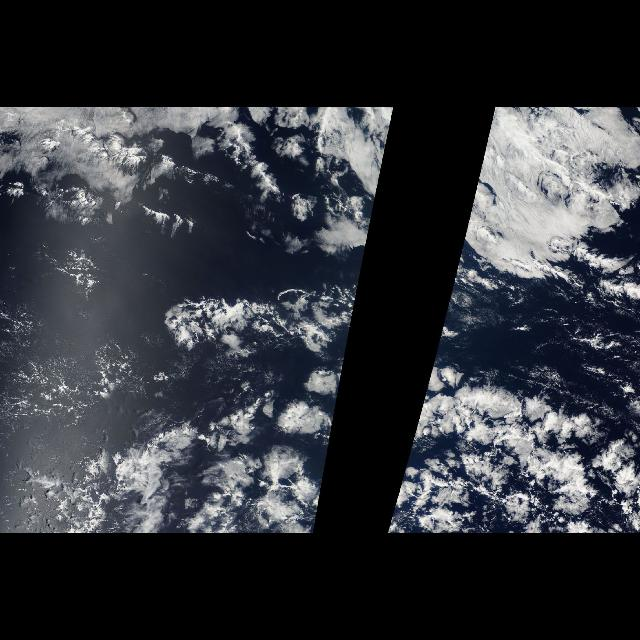Fish: (142, 276, 356, 364)
Flower: (388, 354, 630, 532), (118, 354, 346, 532)
